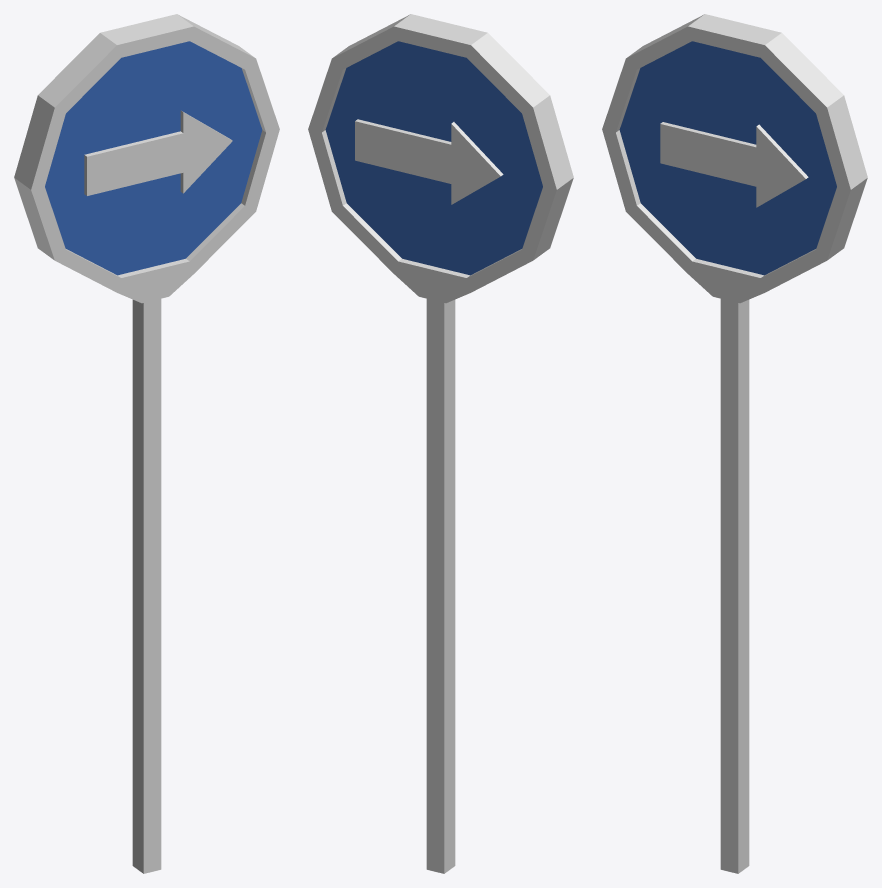
The model's file is 46 Sign_board_3.fbx.
The picture shows the model from 3 angles, left to right: view 1: azimuth 30°, elevation 25°; view 2: azimuth 150°, elevation 25°; view 3: azimuth 330°, elevation 25°; orthographic projection.
Visible parts, largest first — view 1: Right_sign1; view 2: Right_sign1; view 3: Right_sign1.
Part boxes in pixels (x1,y1,x2,y2): Right_sign1: [14, 14, 279, 873]; Right_sign1: [308, 14, 573, 873]; Right_sign1: [602, 14, 867, 873].
Size of the model in its own units: 19.05 by 61.34 by 2.26.
